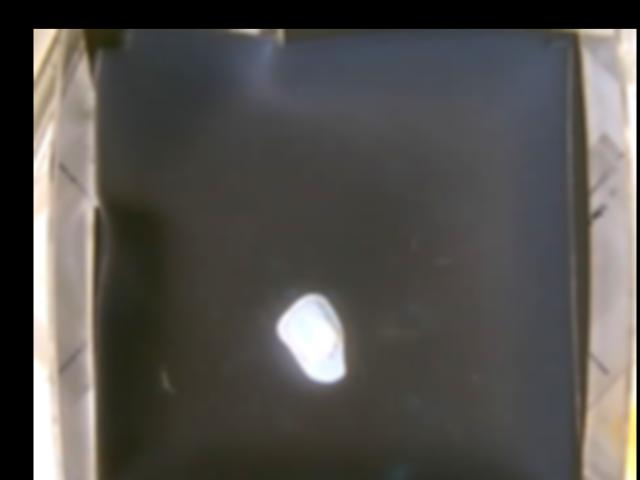Pebble: (273, 291, 347, 381)
